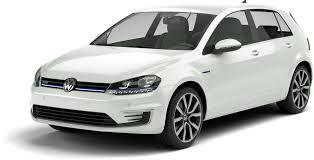car: (30, 5, 312, 153)
